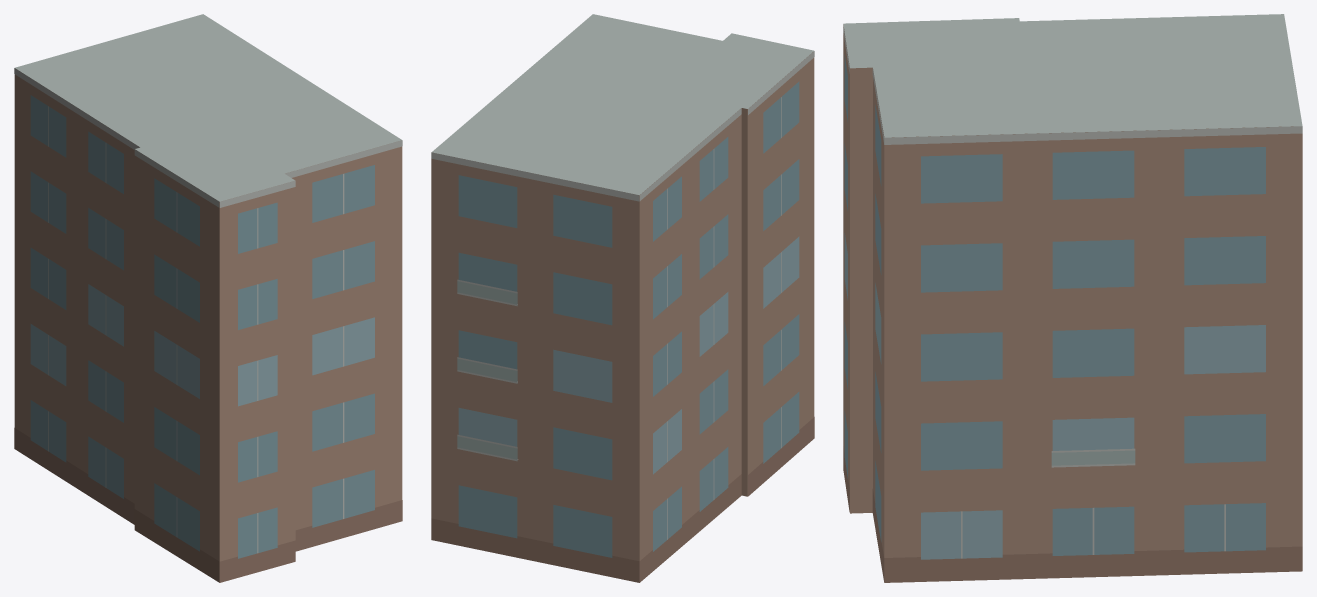
Rendered from survey-upis-32647689.glb.
3 renders of one model, left to right at view 1: azimuth 30°, elevation 25°; view 2: azimuth 150°, elevation 25°; view 3: azimuth 270°, elevation 25°, orthographic. The views are drawn at different scales.
Visible parts, largest first — view 1: survey-upis-32647689.tmp; view 2: survey-upis-32647689.tmp; view 3: survey-upis-32647689.tmp.
Boxes of the visible parts, x1,y1,x2,y2 form: survey-upis-32647689.tmp: (14,14,402,582); survey-upis-32647689.tmp: (431,14,814,582); survey-upis-32647689.tmp: (843,14,1302,582).
Bounding box in the file's own units: 8.79 × 14.75 × 13.8.
